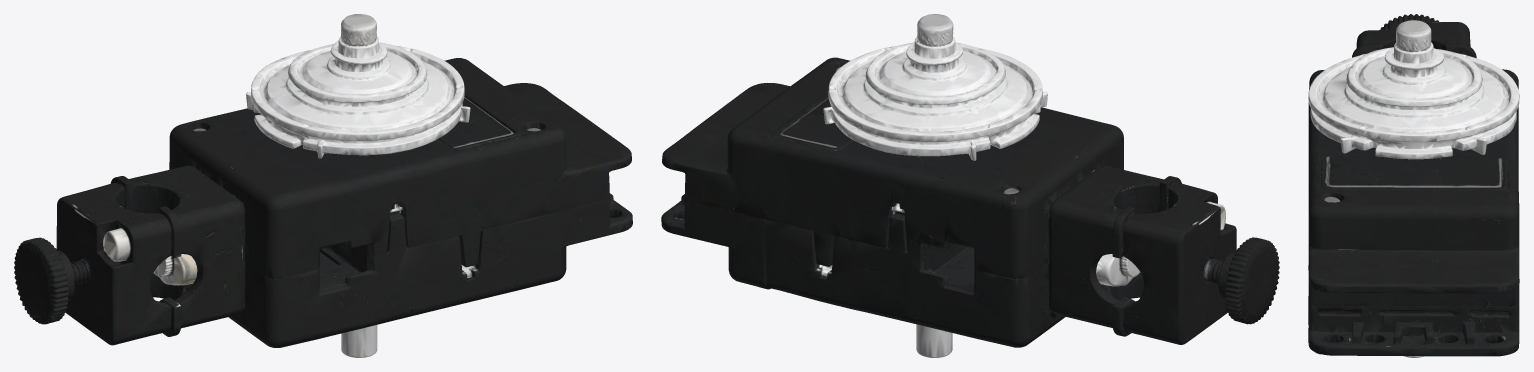
Rendered from sensor_rotacional.glb.
3 renders of one model, left to right at view 1: azimuth 30°, elevation 25°; view 2: azimuth 150°, elevation 25°; view 3: azimuth 270°, elevation 25°, orthographic. The views are drawn at different scales.
Bounding box in the file's own units: 1.9 × 1.08 × 0.6385.
Materials: 1 (1 with a texture image).
